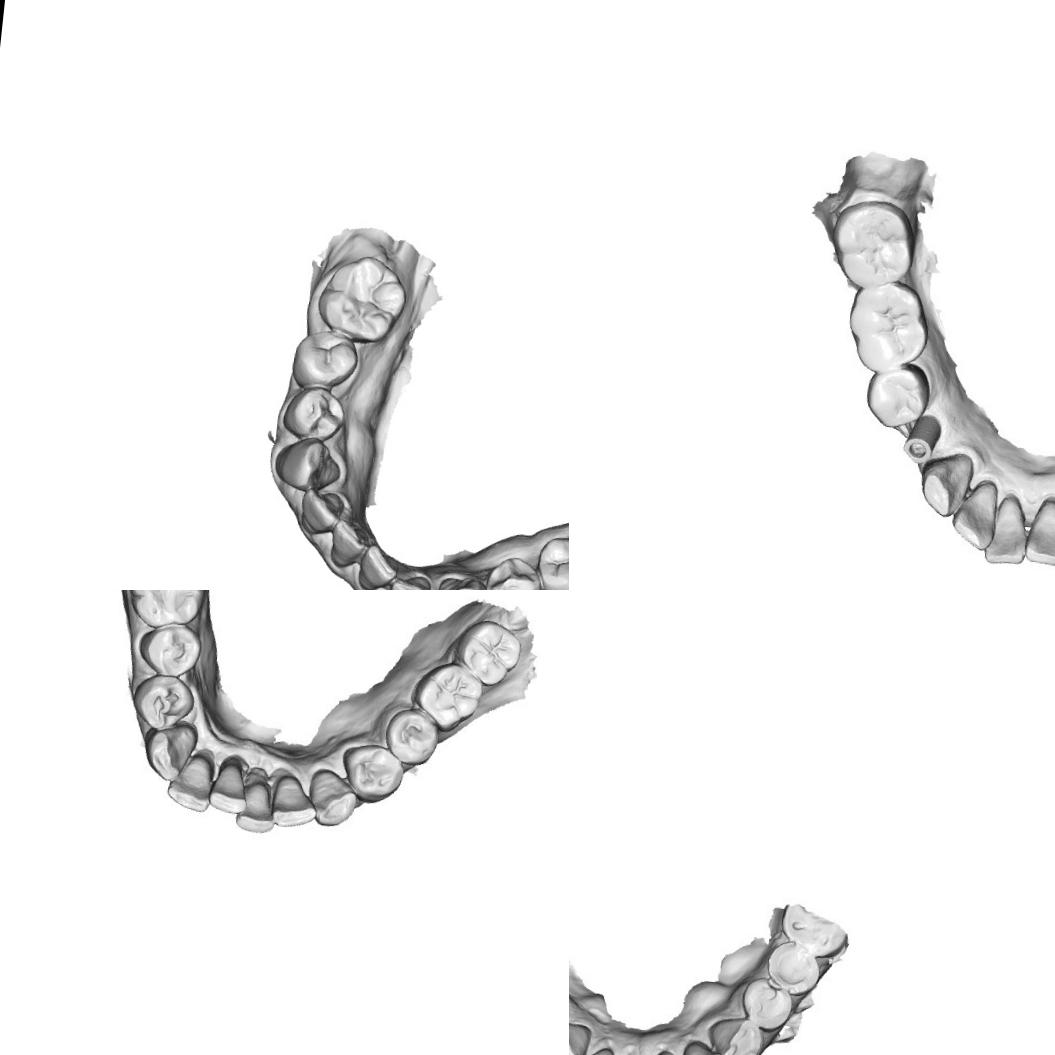canine: (914, 446, 977, 518), (271, 432, 344, 494), (302, 766, 363, 831), (139, 722, 198, 788), (703, 1013, 763, 1055), (432, 570, 494, 590), (569, 1019, 593, 1055)
implant: (898, 414, 947, 468)
incisor: (950, 479, 1002, 555), (982, 492, 1031, 566), (203, 754, 254, 818), (168, 748, 216, 814), (272, 770, 322, 832), (236, 770, 280, 836), (295, 486, 346, 540), (1025, 495, 1055, 569), (352, 541, 396, 590), (327, 518, 367, 569), (383, 572, 441, 590), (678, 1039, 727, 1055)
molar: (313, 248, 413, 347), (826, 192, 920, 293), (846, 278, 928, 368), (408, 662, 489, 740), (452, 615, 524, 696), (777, 900, 852, 961), (126, 590, 210, 629)
premolar: (865, 356, 932, 428), (337, 739, 406, 808), (289, 326, 362, 391), (280, 384, 348, 444), (380, 705, 440, 768), (763, 936, 823, 998), (136, 620, 200, 676), (131, 673, 196, 728), (738, 975, 795, 1035), (480, 552, 547, 590), (531, 533, 569, 590)
